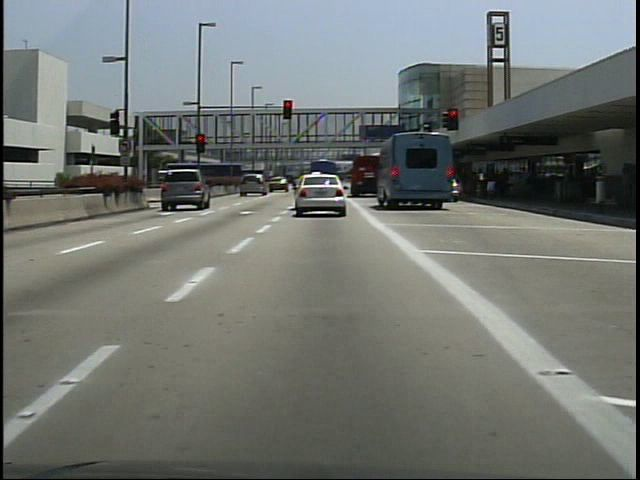person: (485, 163, 499, 202)
